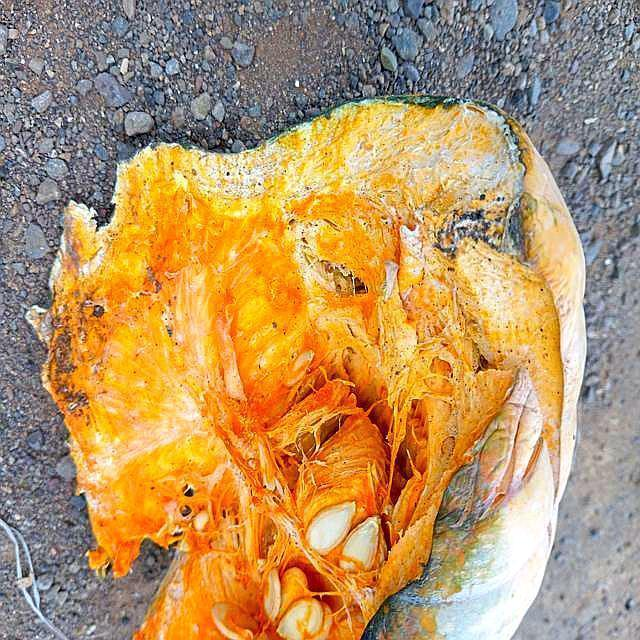Biodegradable: (47, 107, 589, 640)
